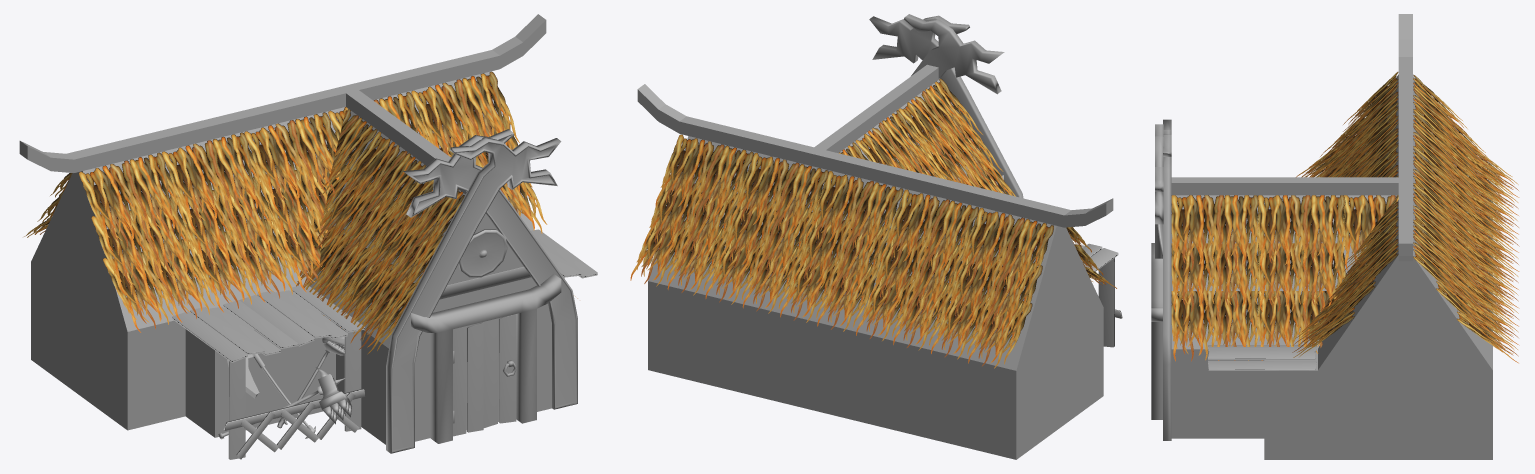
Rendered from House.fbx.
3 renders of one model, left to right at view 1: azimuth 30°, elevation 25°; view 2: azimuth 150°, elevation 25°; view 3: azimuth 270°, elevation 25°, orthographic. The views are drawn at different scales.
Parts seen in each view (by area): view 1: pPlane49, pCube1, pCube4, pCube3, pCube2, pCube6, pCube10, pCube8, ValderBelt, pCube9, pCube26, pCube7 (+15 smaller); view 2: pPlane49, pCube1, pCube4, pCube3, pCube2, pCube26; view 3: pPlane49, pCube1, pCube4, pCube2, pCube6, pCube22, pCube24, pCube3, pCube25.
Part boxes in pixels (<box>): pPlane49: <box>24,71,577,354</box>; pCube1: <box>31,71,564,444</box>; pCube4: <box>19,14,546,194</box>; pCube3: <box>386,137,561,453</box>; pCube2: <box>403,129,577,409</box>; pCube6: <box>411,274,561,443</box>; pCube10: <box>498,314,516,423</box>; pCube8: <box>466,322,483,432</box>; ValderBelt: <box>458,229,507,277</box>; pCube9: <box>482,318,497,427</box>; pCube26: <box>228,358,245,459</box>; pCube7: <box>453,326,466,436</box>; pPlane49: <box>630,78,1116,368</box>; pCube1: <box>648,80,1103,459</box>; pCube4: <box>637,64,1113,227</box>; pCube3: <box>869,15,1023,198</box>; pCube2: <box>903,14,1004,94</box>; pCube26: <box>1098,258,1114,347</box>; pPlane49: <box>1171,72,1519,363</box>; pCube1: <box>1171,74,1492,459</box>; pCube4: <box>1171,14,1412,261</box>; pCube2: <box>1163,119,1171,440</box>; pCube6: <box>1151,243,1162,419</box>; pCube22: <box>1208,360,1316,370</box>; pCube24: <box>1208,349,1315,359</box>; pCube3: <box>1155,124,1163,258</box>; pCube25: <box>1208,345,1316,352</box>.
Size of the model in its own units: 21.53 by 11.51 by 14.62.
